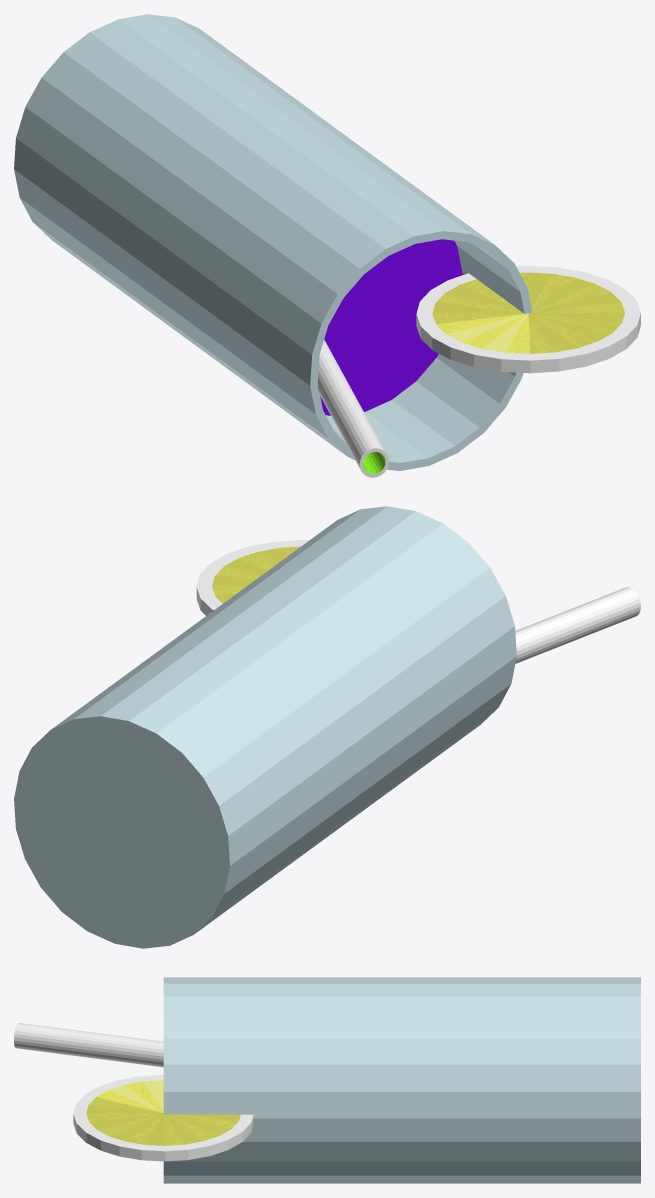
3 views of the same model, one above another, from view 1: azimuth 30°, elevation 25°; view 2: azimuth 150°, elevation 25°; view 3: azimuth 270°, elevation 25° (orthographic). The views are drawn at different scales.
Parts seen in each view (by area): view 1: glass; view 2: glass; view 3: glass.
Boxes of the visible parts, x1,y1,x2,y2 form: glass: [14, 14, 640, 477]; glass: [14, 506, 640, 948]; glass: [14, 977, 640, 1183].
Bounding box in the file's own units: 8.96 × 5.63 × 17.
